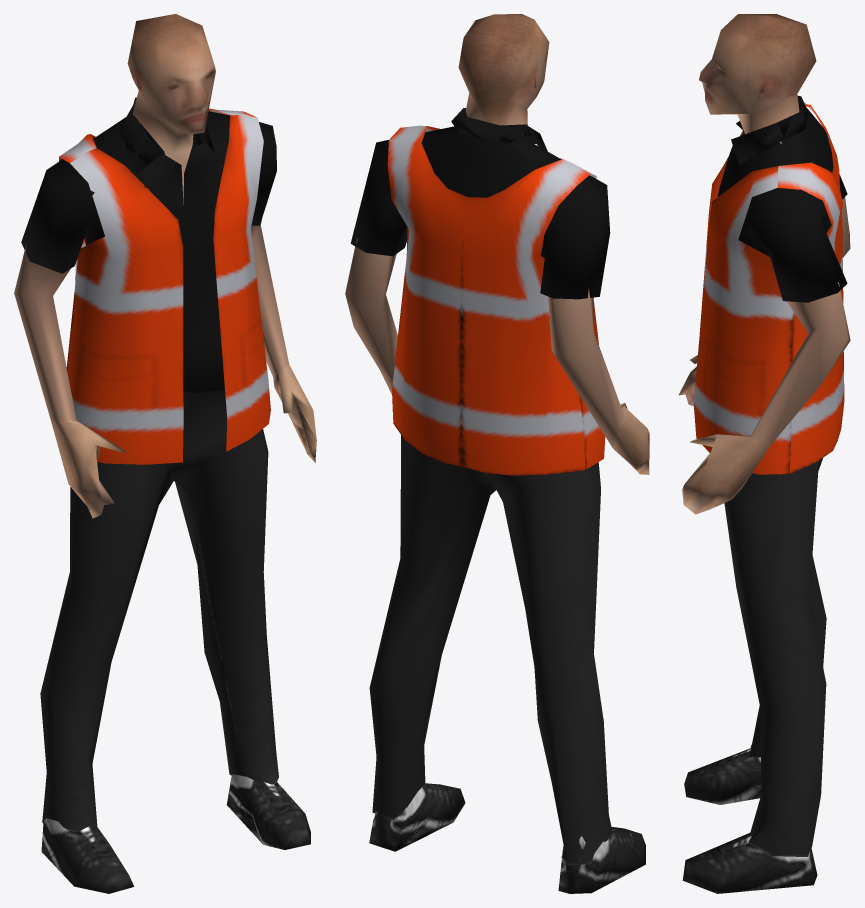
File: LOW_Marshall03_TW.fbx
The picture shows the model from 3 angles, left to right: view 1: azimuth 30°, elevation 25°; view 2: azimuth 150°, elevation 25°; view 3: azimuth 270°, elevation 25°; orthographic projection.
Parts seen in each view (by area): view 1: LOW_Marshall03_TW; view 2: LOW_Marshall03_TW; view 3: LOW_Marshall03_TW.
Part boxes in pixels (x1,y1,x2,y2): LOW_Marshall03_TW: (14, 14, 316, 893); LOW_Marshall03_TW: (345, 14, 649, 893); LOW_Marshall03_TW: (679, 14, 850, 893).
Bounding box in the file's own units: 54.17 × 179 × 33.92.
